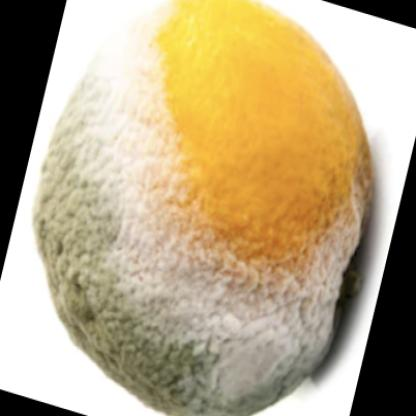rotten: (37, 1, 374, 416)
